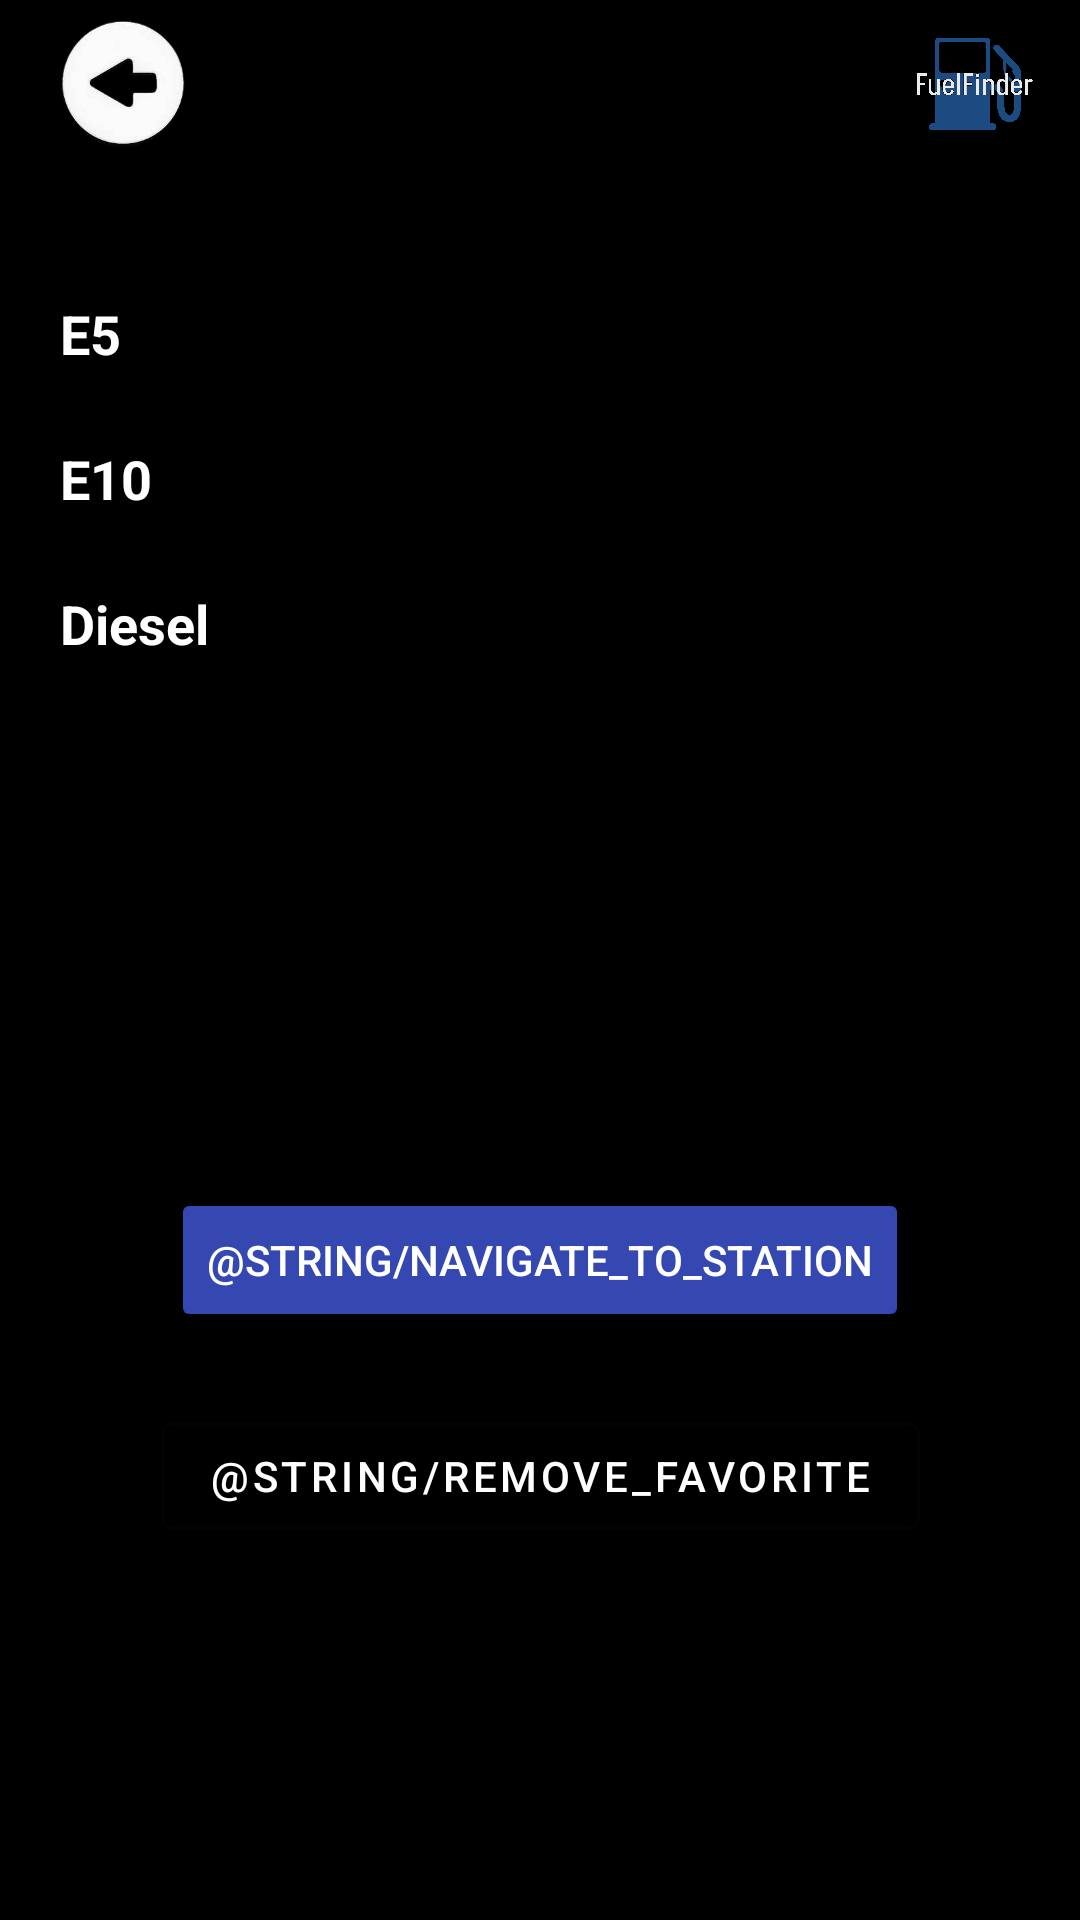

Icon bounding boxes for this 1080x1920 phone screenshot, format (x1, y1, x2, y2):
back: (62, 21, 184, 144)
station: (917, 38, 1033, 130)
